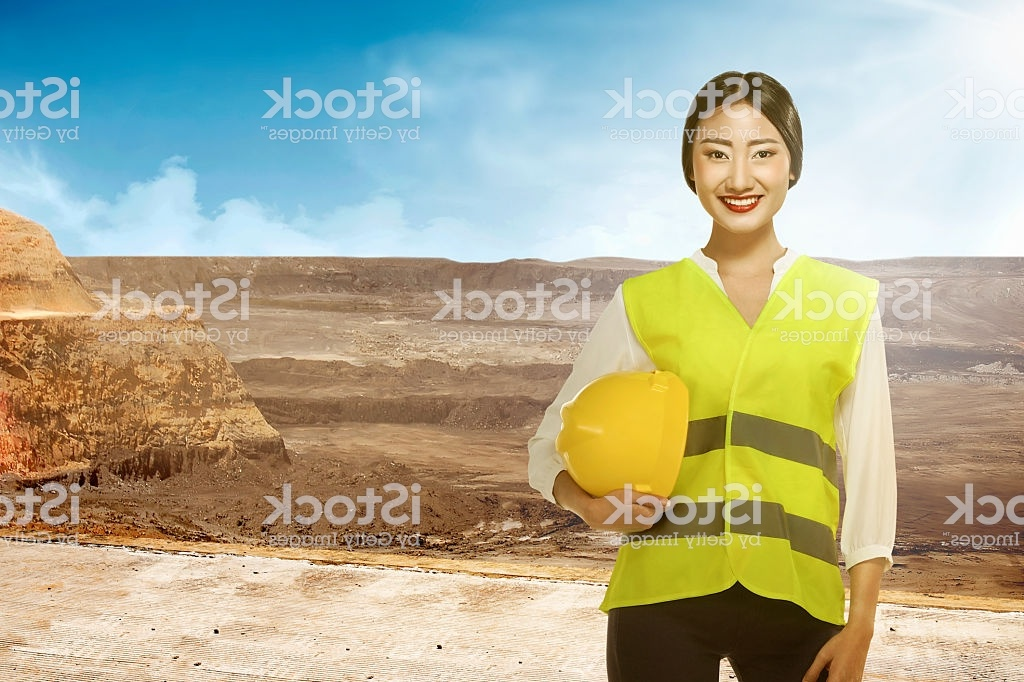NoHardhat: (606, 62, 860, 617)
